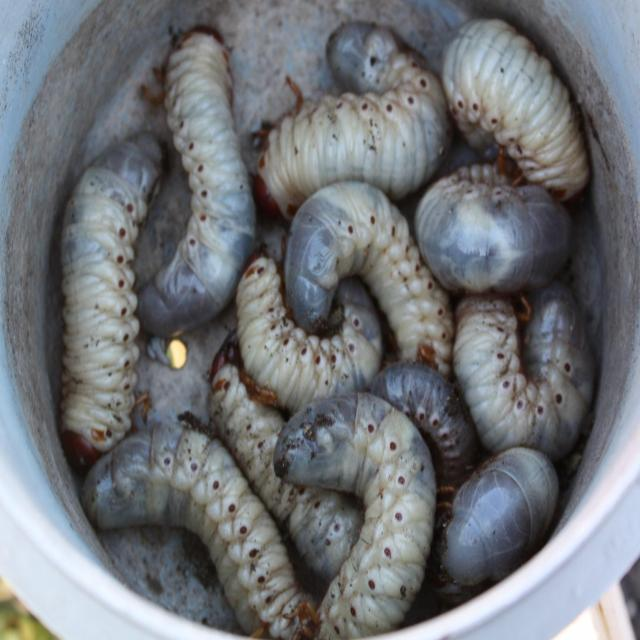Grub-Adult-: (230, 10, 456, 214), (82, 428, 301, 636), (43, 128, 170, 466), (270, 388, 439, 630), (133, 23, 260, 336), (271, 194, 460, 384), (432, 13, 596, 187), (447, 300, 603, 449), (233, 249, 381, 400), (421, 161, 592, 287)
